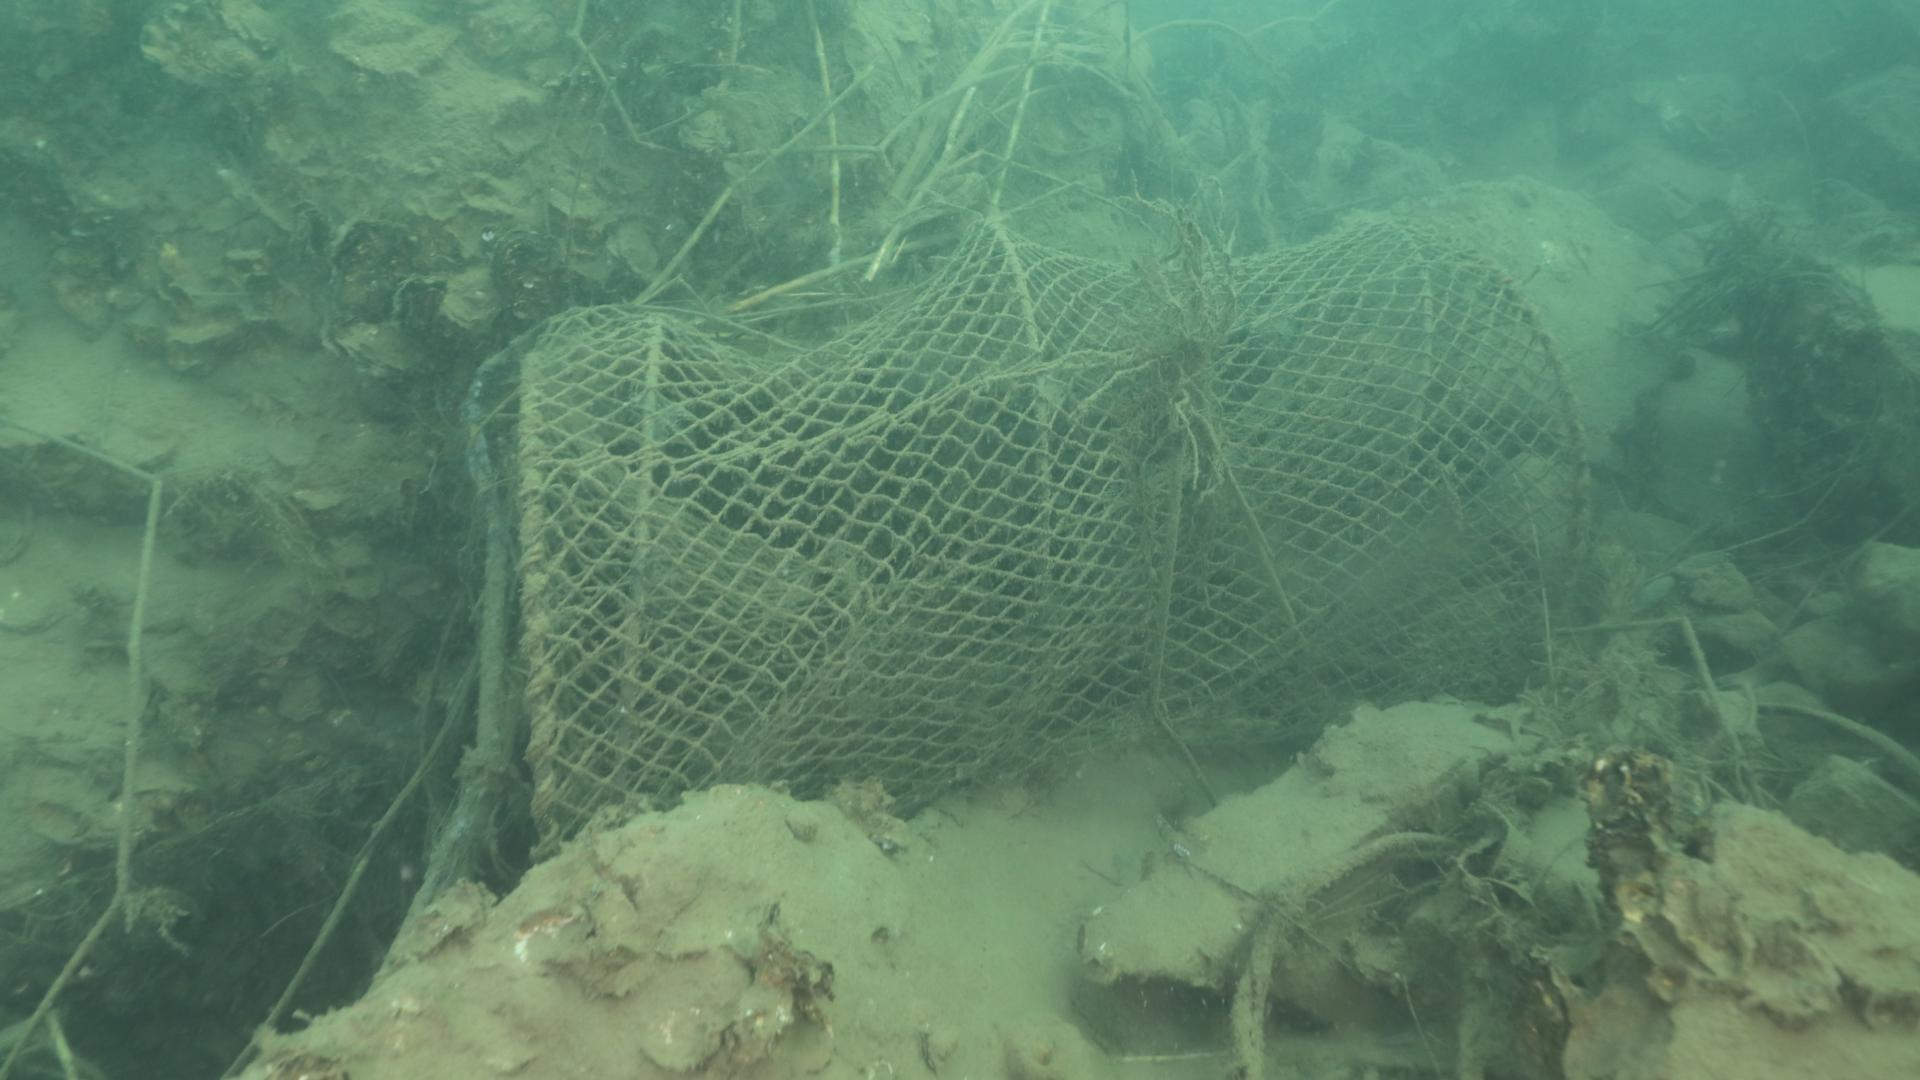spring fish trap: (514, 216, 1589, 860)
